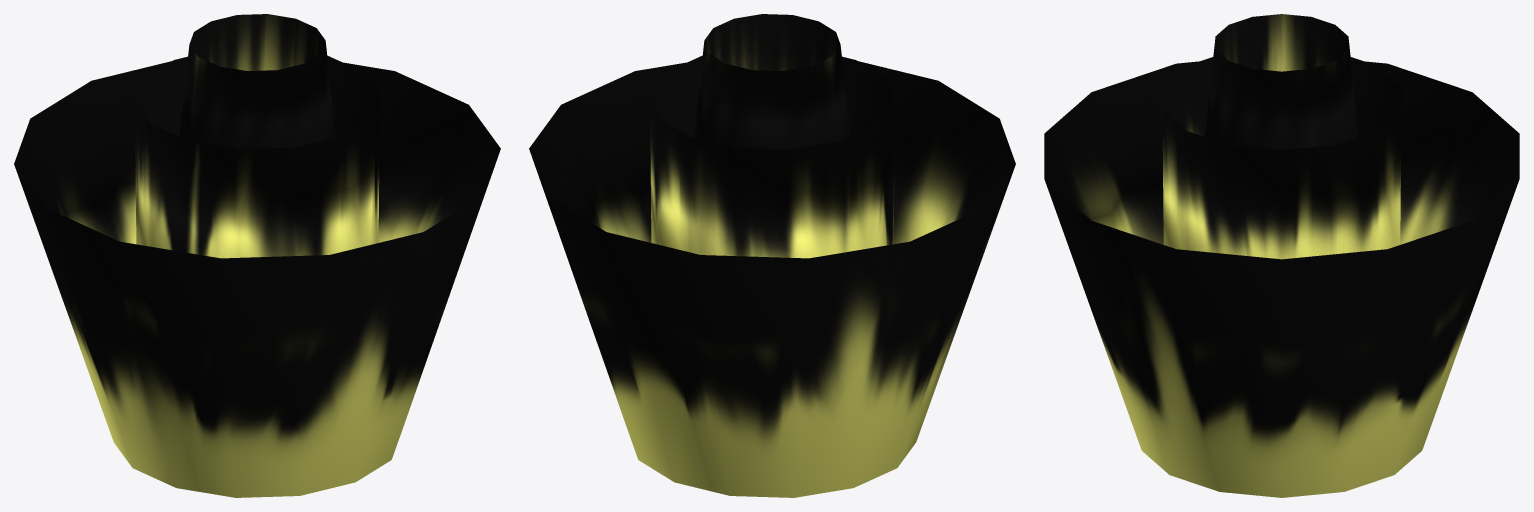
Rendered from PowerUp_StalloneFuz.fbx.
3 views of the same model, side by side, from view 1: azimuth 30°, elevation 25°; view 2: azimuth 150°, elevation 25°; view 3: azimuth 270°, elevation 25° (orthographic).
Visible parts, largest first — view 1: polySurface4; view 2: polySurface4; view 3: polySurface4.
Boxes of the visible parts, <box> form: polySurface4: <box>14,14,500,497</box>; polySurface4: <box>529,14,1015,497</box>; polySurface4: <box>1044,14,1519,497</box>.
Bounding box in the file's own units: 7.26 × 6.48 × 7.07.
Materials: 1 (1 with a texture image).
